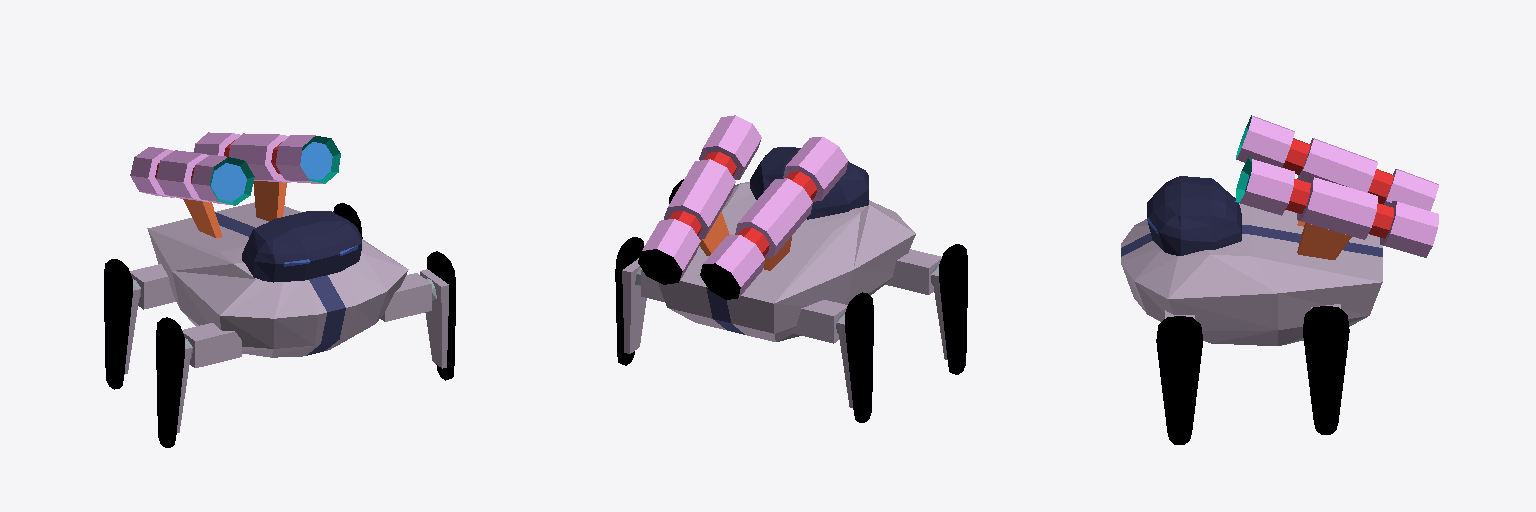
The picture shows the model from 3 angles: view 1: azimuth 30°, elevation 25°; view 2: azimuth 150°, elevation 25°; view 3: azimuth 270°, elevation 25°; orthographic projection.
Visible parts, largest first — view 1: Body, Legs, Weapons, Head; view 2: Weapons, Body, Legs, Head; view 3: Body, Weapons, Legs, Head.
Part boxes in pixels (left/top/right/bottom): Body: left=147, top=202, right=408, bottom=357; Legs: left=104, top=203, right=455, bottom=447; Weapons: left=130, top=132, right=340, bottom=237; Head: left=242, top=211, right=361, bottom=282; Weapons: left=638, top=115, right=847, bottom=299; Body: left=658, top=182, right=915, bottom=341; Legs: left=615, top=179, right=967, bottom=422; Head: left=750, top=147, right=868, bottom=219; Body: left=1121, top=203, right=1382, bottom=345; Weapons: left=1235, top=115, right=1438, bottom=259; Legs: left=1156, top=304, right=1349, bottom=444; Head: left=1147, top=176, right=1241, bottom=255.
Size of the model in its own units: 5.35 by 4.22 by 5.11.
Materials: 1 (1 with a texture image).